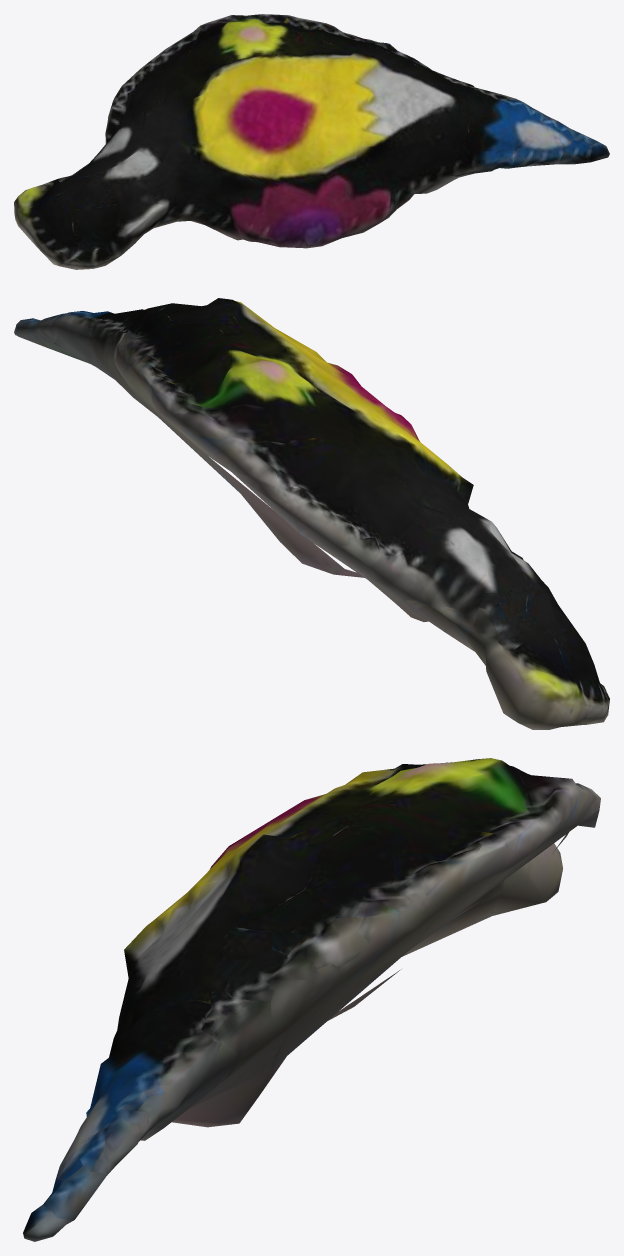
The model's file is hall.glb.
The picture shows the model from 3 angles, top to bottom: view 1: azimuth 30°, elevation 25°; view 2: azimuth 150°, elevation 25°; view 3: azimuth 270°, elevation 25°; orthographic projection. The views are drawn at different scales.
Size of the model in its own units: 0.7366 by 0.2717 by 0.3907.
1 material, 1 textured.
